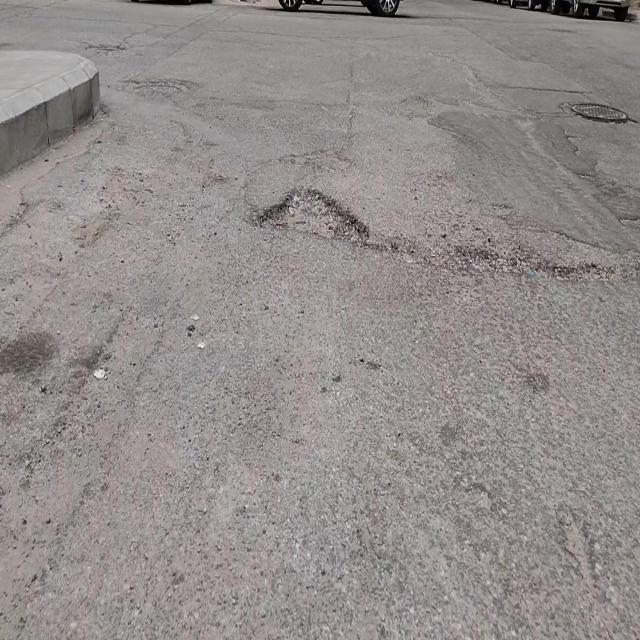Pothole: (254, 180, 372, 250)
